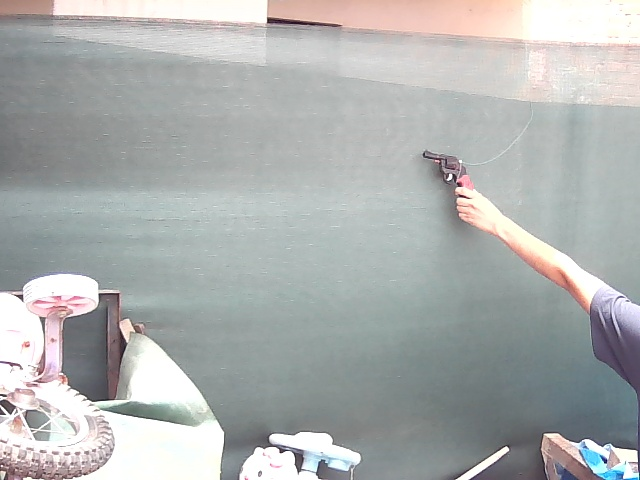pistola: (416, 145, 480, 190)
